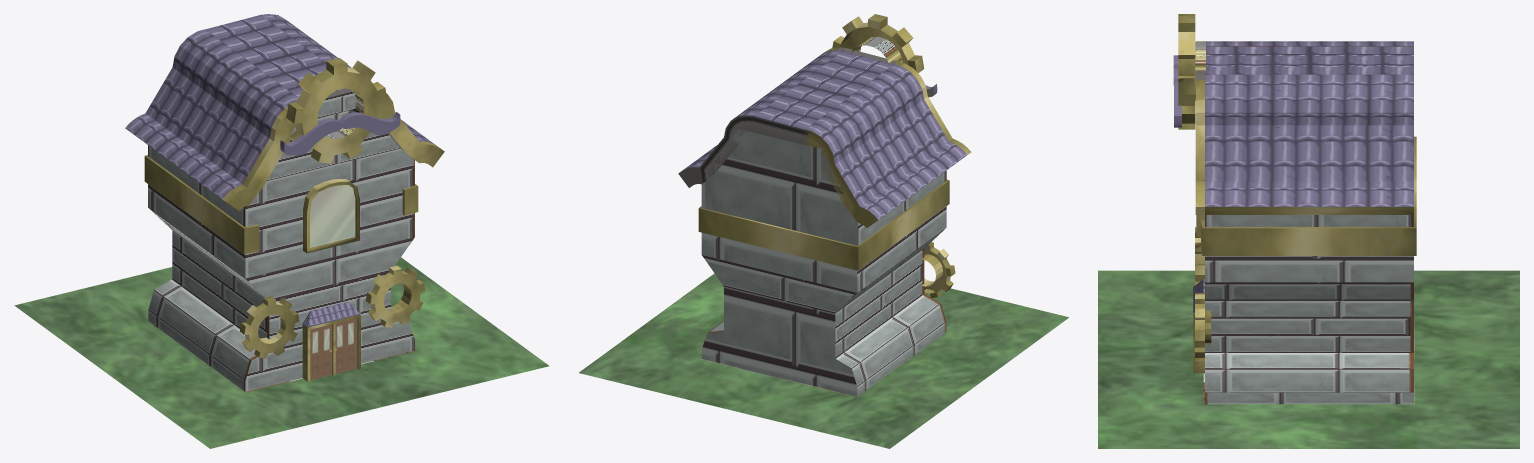
File: CogShopTest.FBX
3 renders of one model, left to right at view 1: azimuth 30°, elevation 25°; view 2: azimuth 150°, elevation 25°; view 3: azimuth 270°, elevation 25°, orthographic. The views are drawn at different scales.
Parts seen in each view (by area): view 1: Box001; view 2: Box001; view 3: Box001.
Boxes of the visible parts, <box> form: Box001: <box>14,14,549,448</box>; Box001: <box>579,14,1068,448</box>; Box001: <box>1098,14,1519,448</box>.
Size of the model in its own units: 78.74 by 70.57 by 78.74.
Materials: 1 (1 with a texture image).
